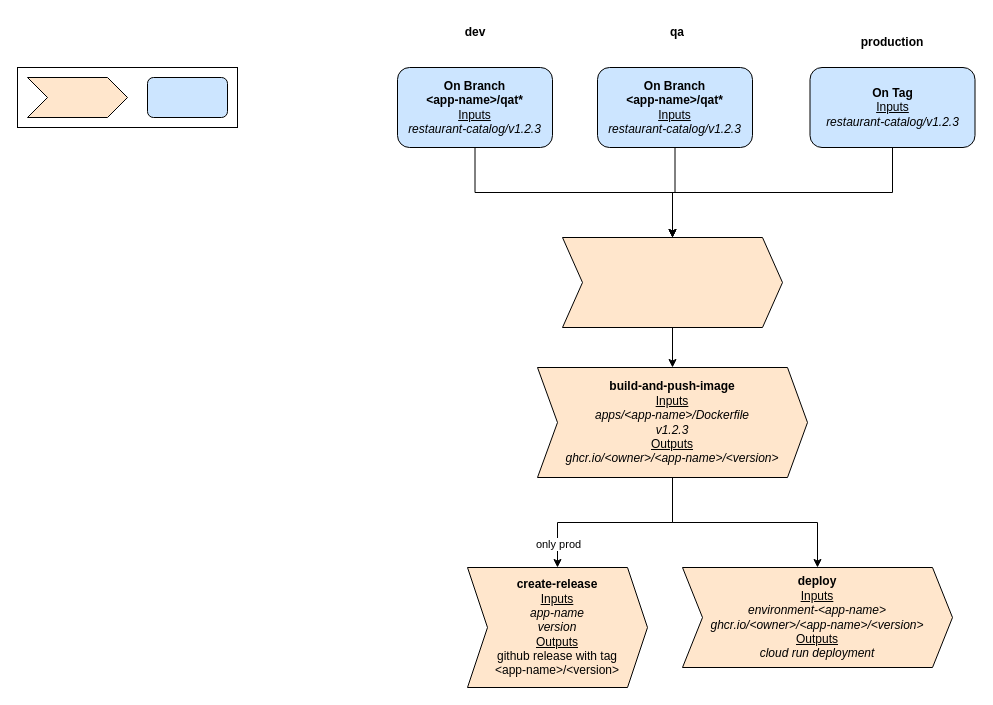
Image size: 993x705. Some labels were removed from this diagram. Here are the shapes that lost their labels. From the top down, the centre of each, then its label:
(x=77, y=97): process
(x=187, y=97): Event
(x=672, y=282): detect-app Outputs app-name: restaurant-catalog version: v1.2.3
